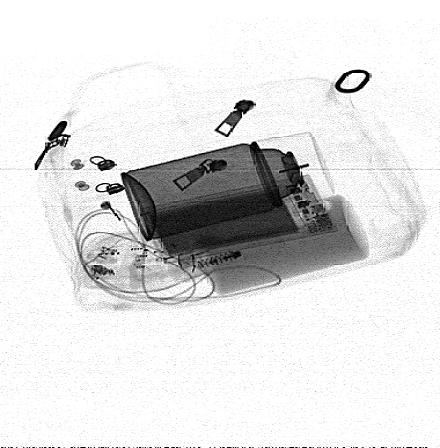Lighter: (89, 265, 193, 282)
Powerbank: (140, 174, 341, 266)
Sprayer: (121, 132, 334, 241)
